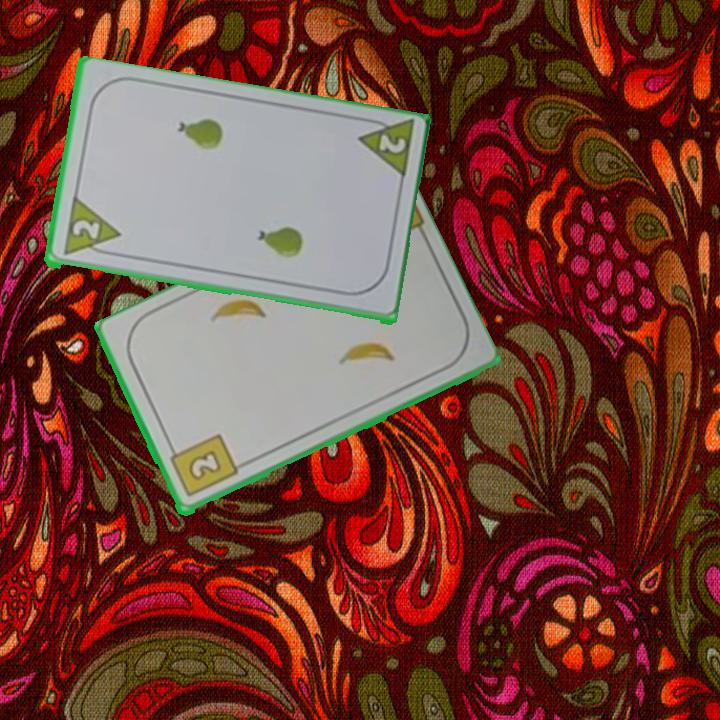2b: (165, 431, 240, 500)
2p: (353, 114, 417, 184), (59, 196, 123, 260)
